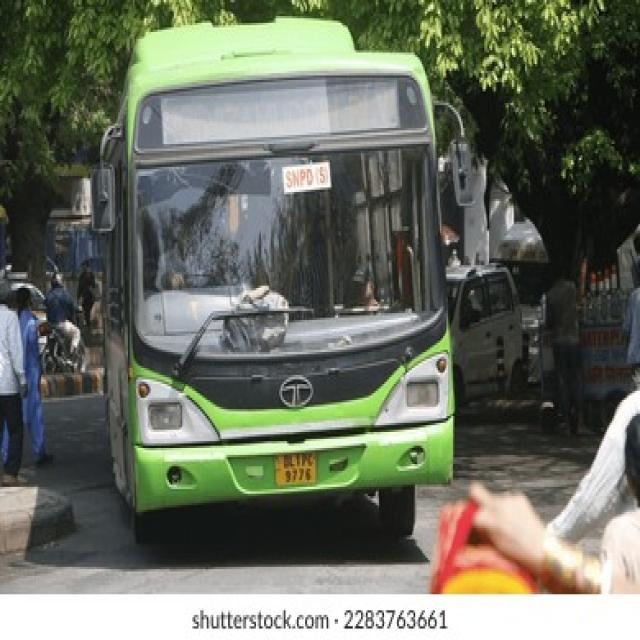bus: (93, 17, 481, 535)
